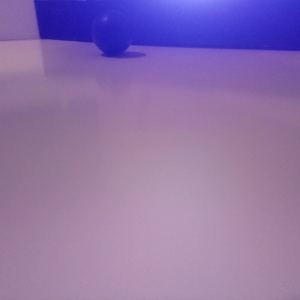dead_ball: (91, 9, 133, 56)
